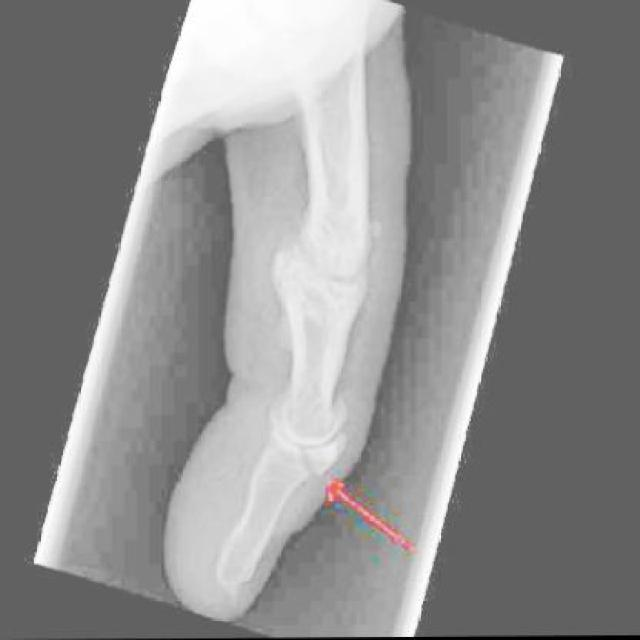Fracture: (240, 402, 351, 509)
